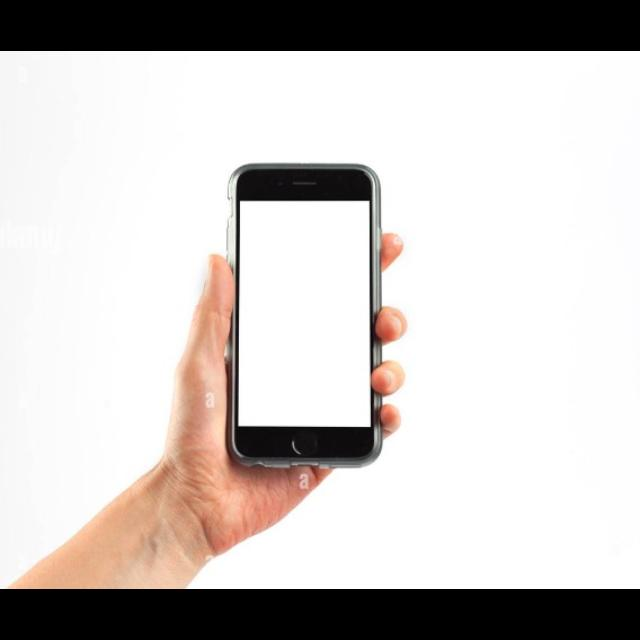Smartphone: (225, 164, 383, 469)
